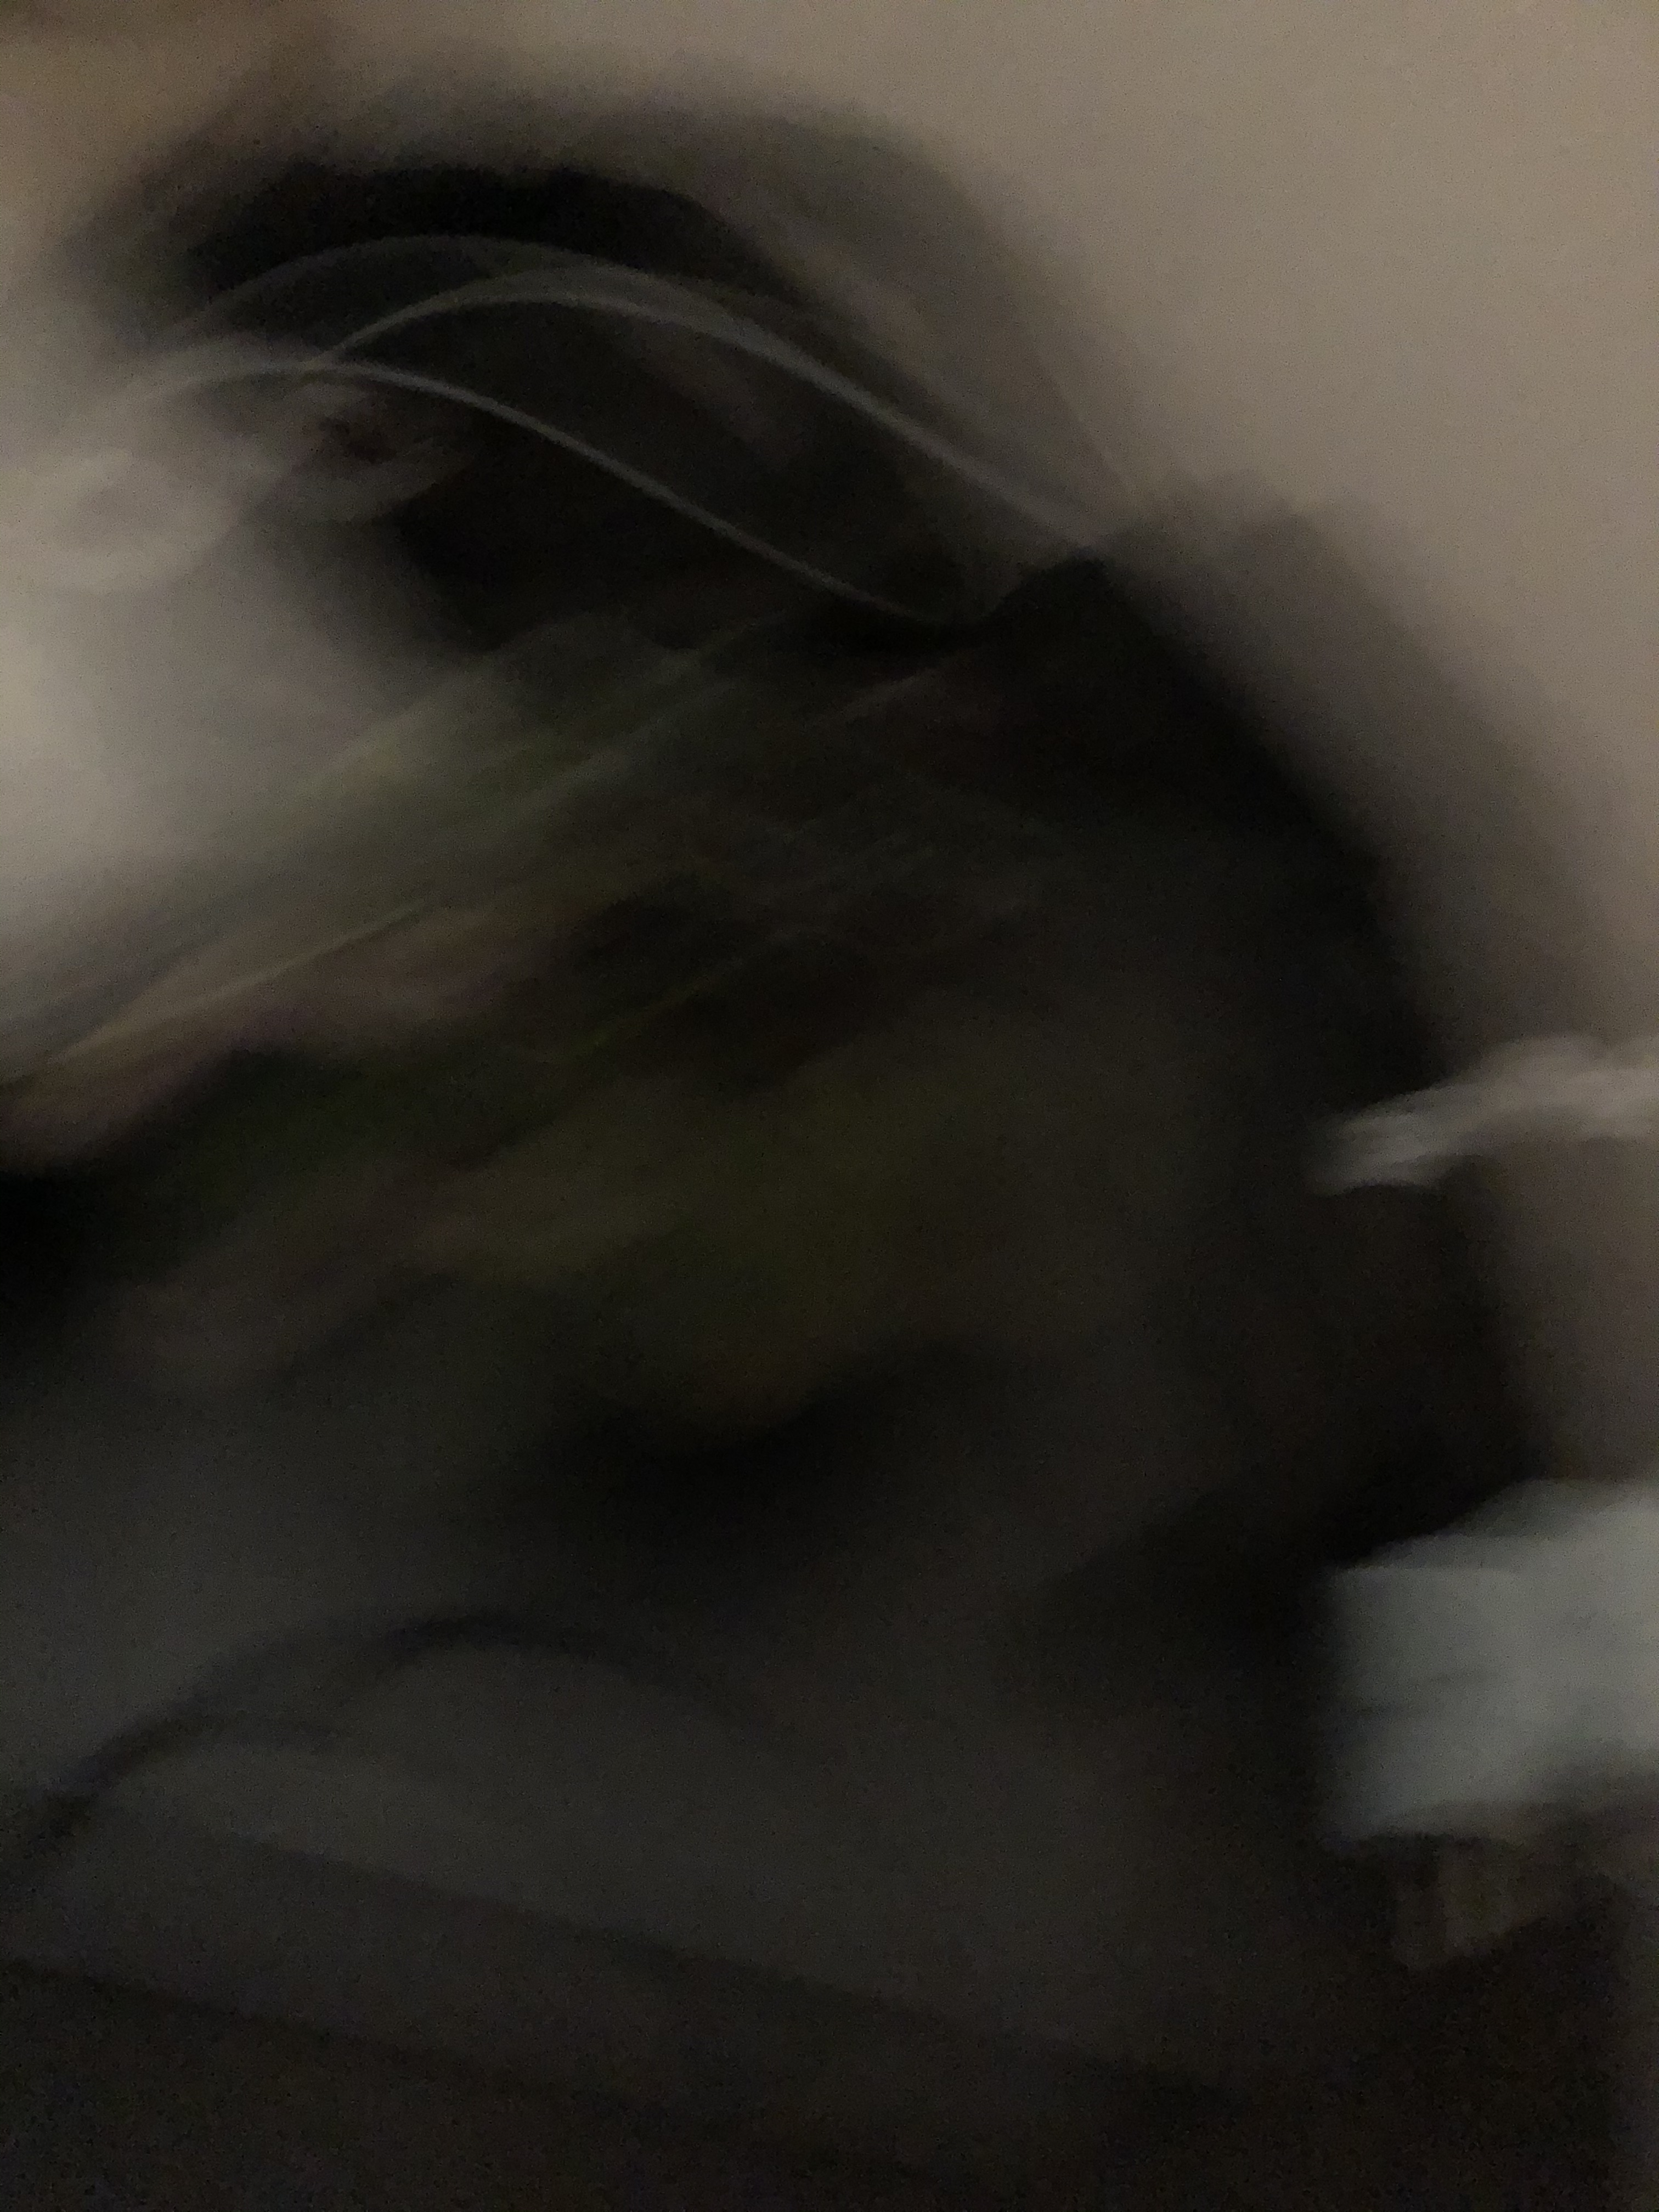ignore: (335, 624, 1243, 1383)
